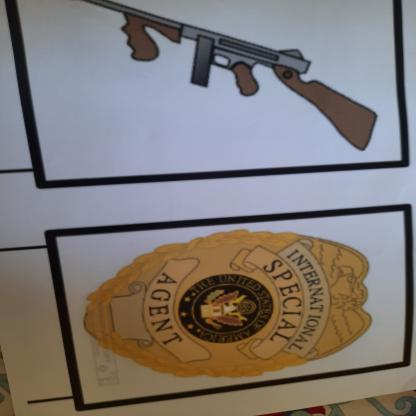Bootlegger: (61, 1, 393, 162)
G-man: (68, 225, 391, 388)
